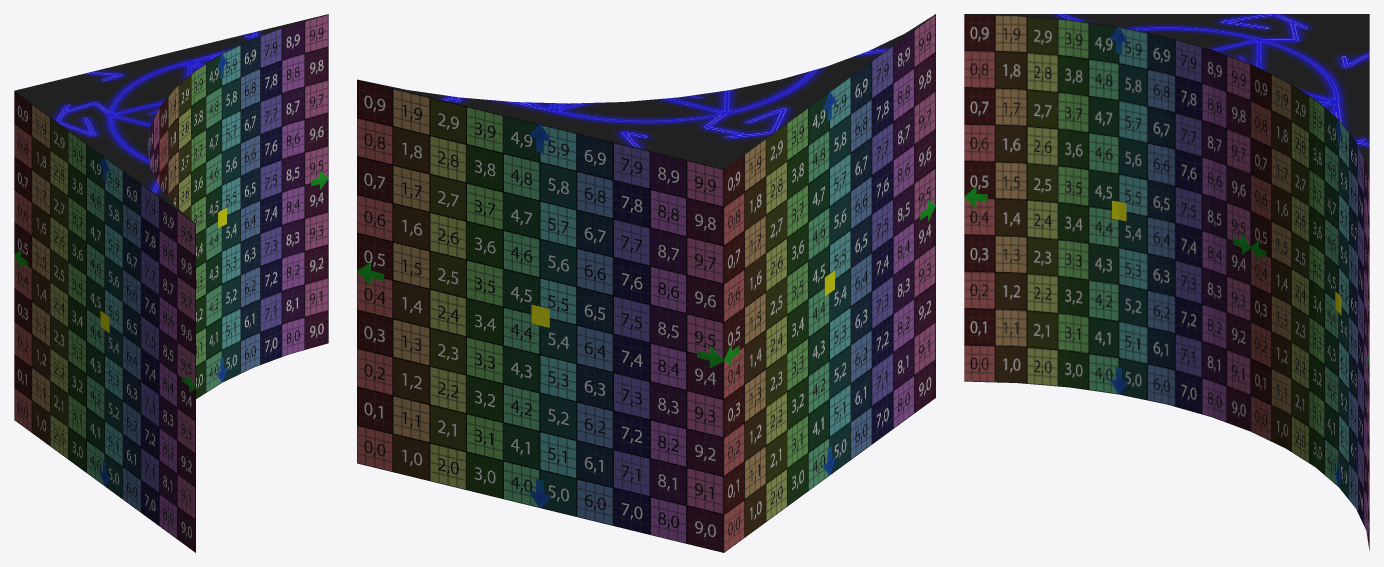
The model's file is BlockInnerCorner1.fbx.
3 renders of one model, left to right at view 1: azimuth 30°, elevation 25°; view 2: azimuth 150°, elevation 25°; view 3: azimuth 270°, elevation 25°, orthographic. The views are drawn at different scales.
Parts seen in each view (by area): view 1: BlockInnerCorner1; view 2: BlockInnerCorner1; view 3: BlockInnerCorner1.
Boxes of the visible parts, left/top/right/bottom form: BlockInnerCorner1: left=14, top=14, right=328, bottom=552; BlockInnerCorner1: left=357, top=14, right=935, bottom=552; BlockInnerCorner1: left=964, top=14, right=1369, bottom=550.
Size of the model in its own units: 1 by 1 by 1.
